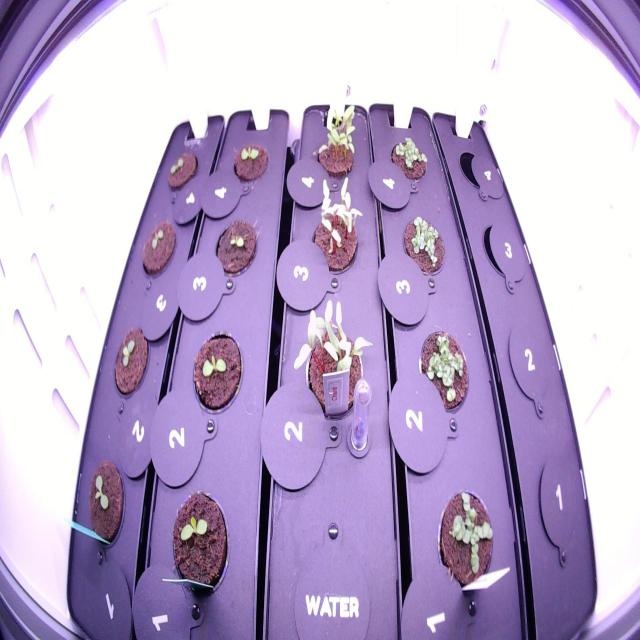empty_pod: (531, 443, 590, 560), (506, 316, 558, 411), (479, 212, 530, 296), (453, 143, 495, 198)
germination: (288, 286, 376, 434), (162, 484, 234, 608), (431, 480, 500, 606), (410, 317, 475, 428), (306, 172, 361, 281), (189, 318, 245, 418), (83, 452, 130, 560), (309, 92, 362, 184), (395, 203, 451, 287), (110, 315, 154, 404), (211, 212, 260, 284), (383, 126, 433, 194), (136, 215, 180, 281), (227, 136, 272, 190), (162, 143, 201, 197)
